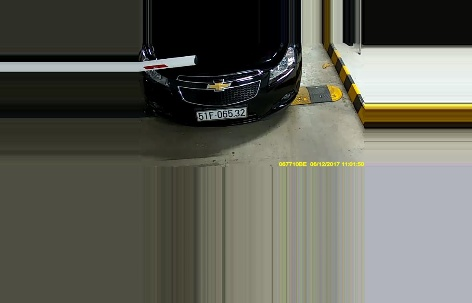plate: (194, 106, 249, 118)
